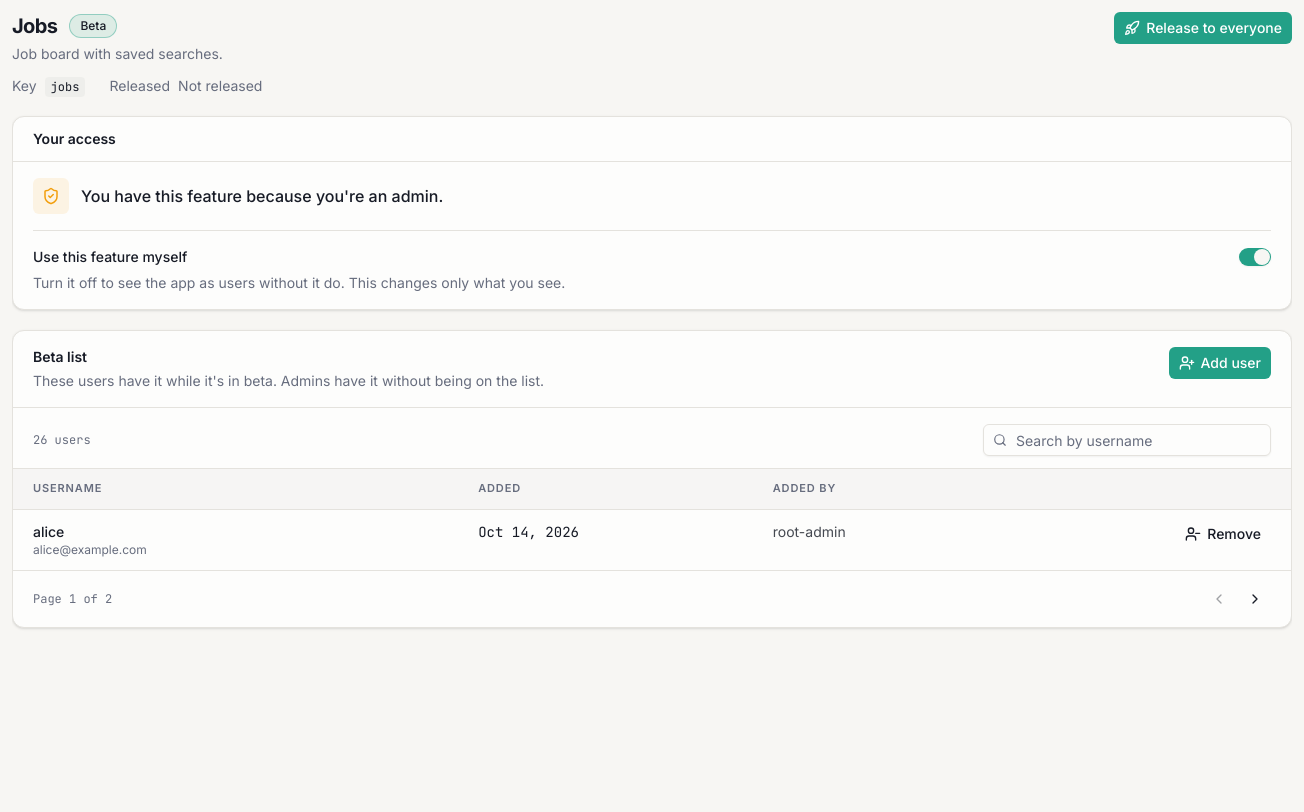
Test: FeatureViewPage — beta list (AC2, AC4) › pages 25 at a time
Expected: the navigation bar named "Beta list pages" reads "Page 1 of 2", [33,590,112,606]
Click the button named "Next page" at (1255, 598), box [1239,582,1271,614]
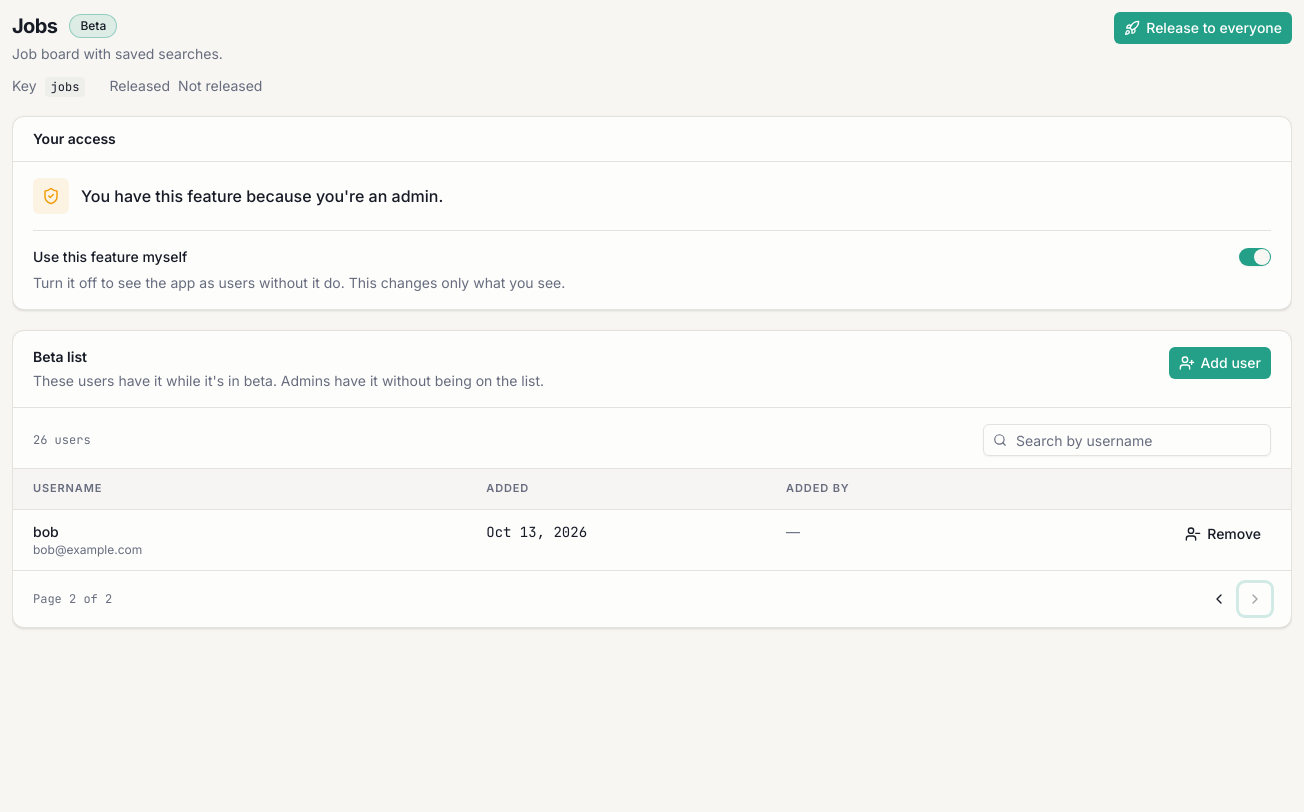
Expected: the navigation bar named "Beta list pages" reads "Page 2 of 2", [33,590,112,606]
